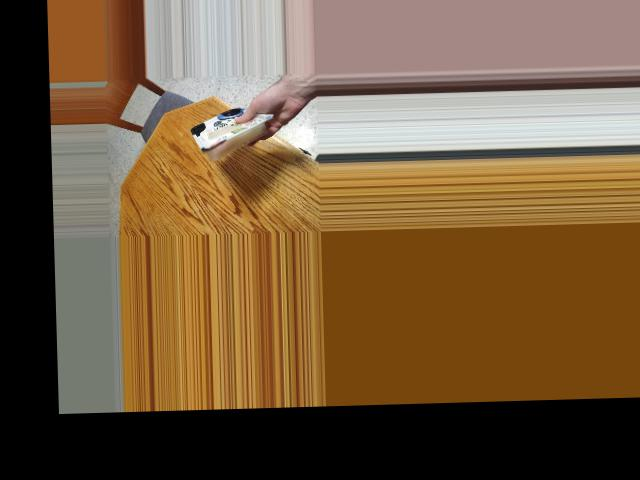cheese: (193, 94, 262, 159)
